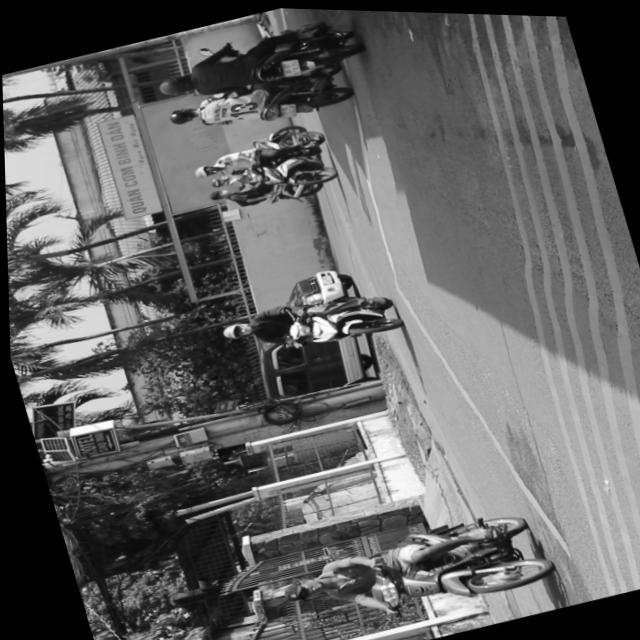helmet: (155, 72, 192, 100), (217, 318, 250, 342)
licenseplate: (265, 490, 556, 640), (145, 6, 366, 116), (211, 272, 405, 375)
motorcyclist: (275, 572, 326, 606)
nohelmet: (278, 56, 300, 77)
